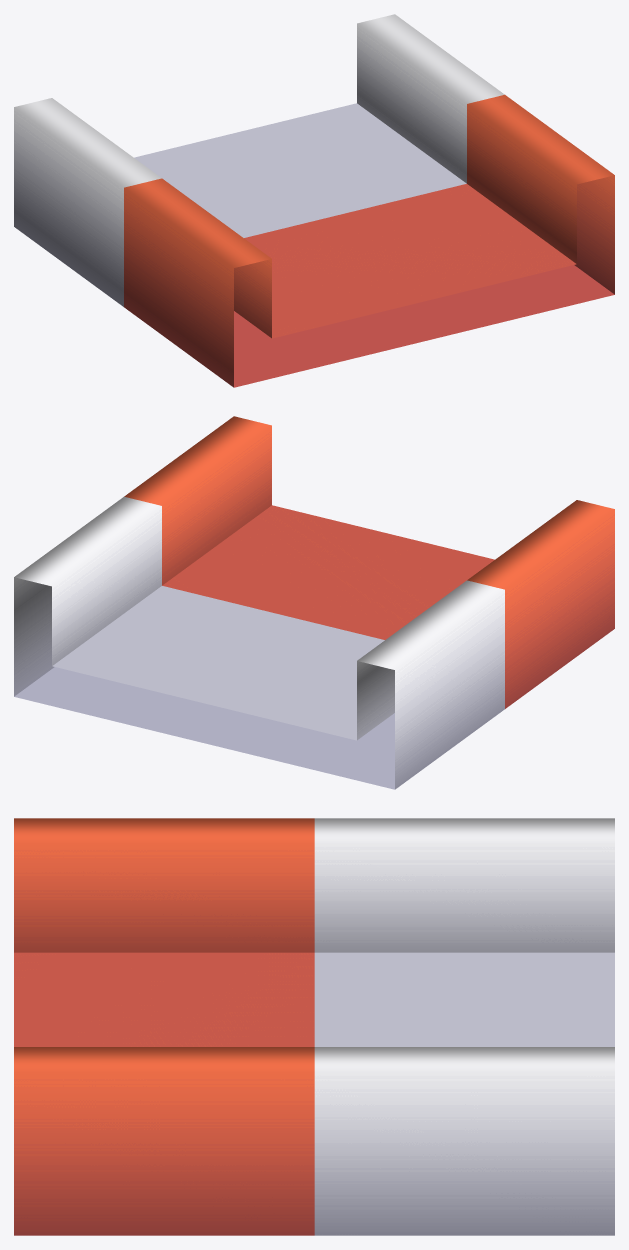
Rendered from track_striped_narrow.glb.
The picture shows the model from 3 angles, top to bottom: view 1: azimuth 30°, elevation 25°; view 2: azimuth 150°, elevation 25°; view 3: azimuth 270°, elevation 25°; orthographic projection. The views are drawn at different scales.
Parts seen in each view (by area): view 1: track-striped-narrow; view 2: track-striped-narrow; view 3: track-striped-narrow.
Part boxes in pixels (x1,y1,x2,y2): track-striped-narrow: (14,14,614,387); track-striped-narrow: (14,416,614,789); track-striped-narrow: (14,818,614,1235).
Bounding box in the file's own units: 1 × 0.3 × 1.
Materials: 1 (1 with a texture image).
